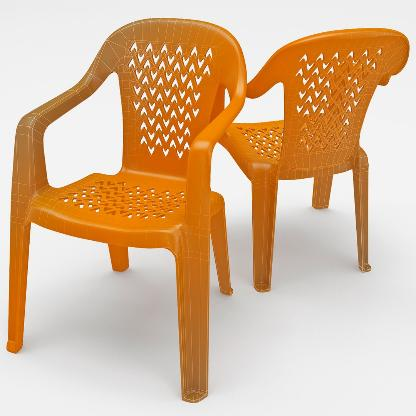chair: (3, 9, 256, 403), (228, 17, 416, 302)
